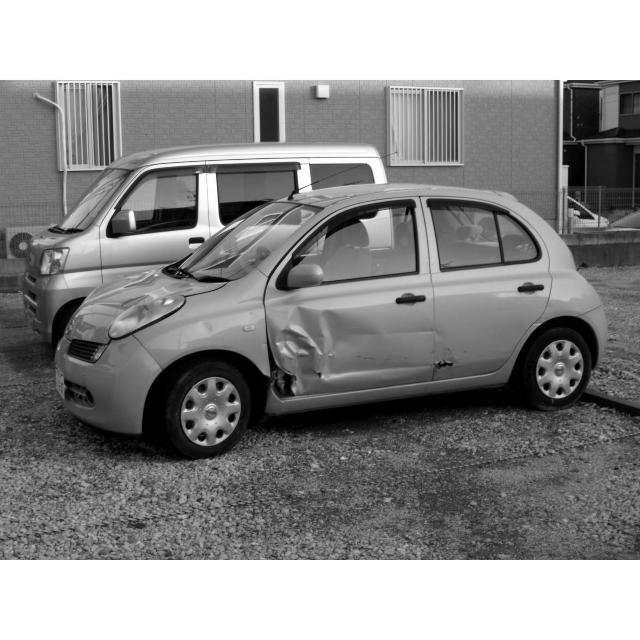doorouter-dent: (260, 253, 416, 390)
fender-dent: (146, 288, 242, 366)
